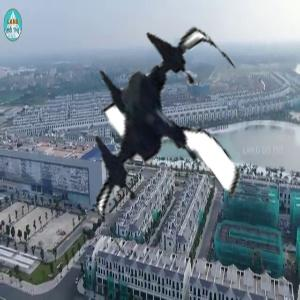drone: (56, 31, 278, 253)
